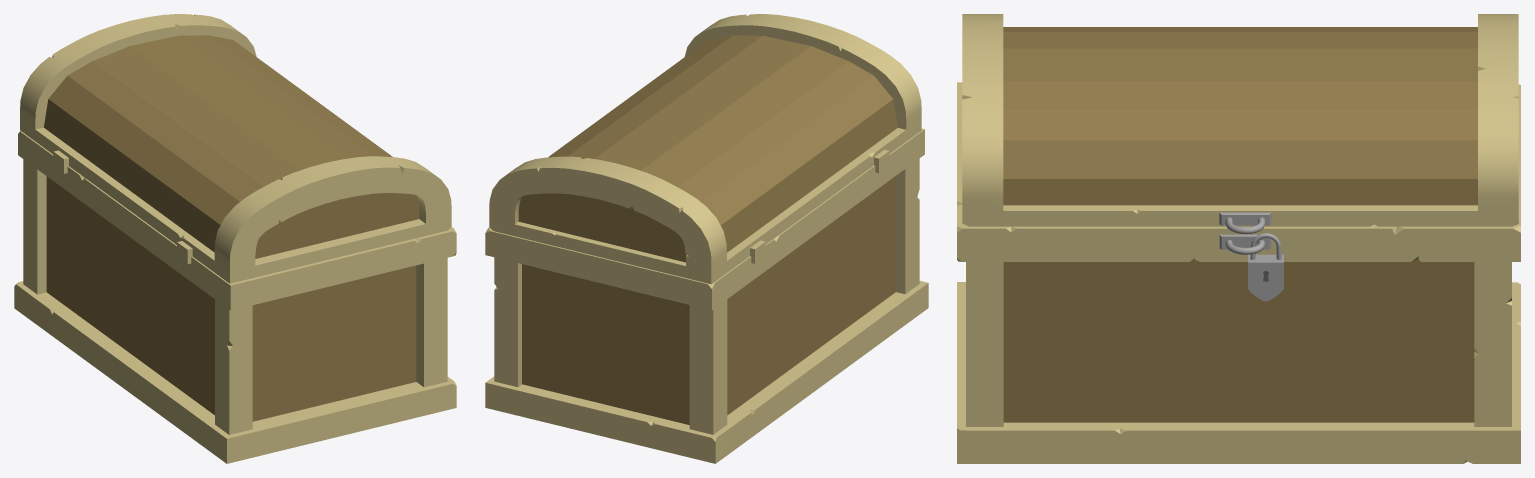
Rendered from treasure_chest_B.fbx.
The picture shows the model from 3 angles, left to right: view 1: azimuth 30°, elevation 25°; view 2: azimuth 150°, elevation 25°; view 3: azimuth 270°, elevation 25°; orthographic projection. The views are drawn at different scales.
Parts seen in each view (by area): view 1: treasure_chest_B, treasure_chest_B_top; view 2: treasure_chest_B, treasure_chest_B_top; view 3: treasure_chest_B, treasure_chest_B_top, treasure_chest_B_lock.
Part boxes in pixels (x1=…): treasure_chest_B: x1=14, y1=131, x2=456, y2=463; treasure_chest_B_top: x1=20, y1=14, x2=451, y2=283; treasure_chest_B: x1=485, y1=128, x2=928, y2=463; treasure_chest_B_top: x1=489, y1=14, x2=921, y2=284; treasure_chest_B: x1=957, y1=82, x2=1520, y2=463; treasure_chest_B_top: x1=962, y1=14, x2=1518, y2=234; treasure_chest_B_lock: x1=1248, y1=233, x2=1283, y2=301.
Size of the model in its own units: 86.98 by 87.3 by 129.
